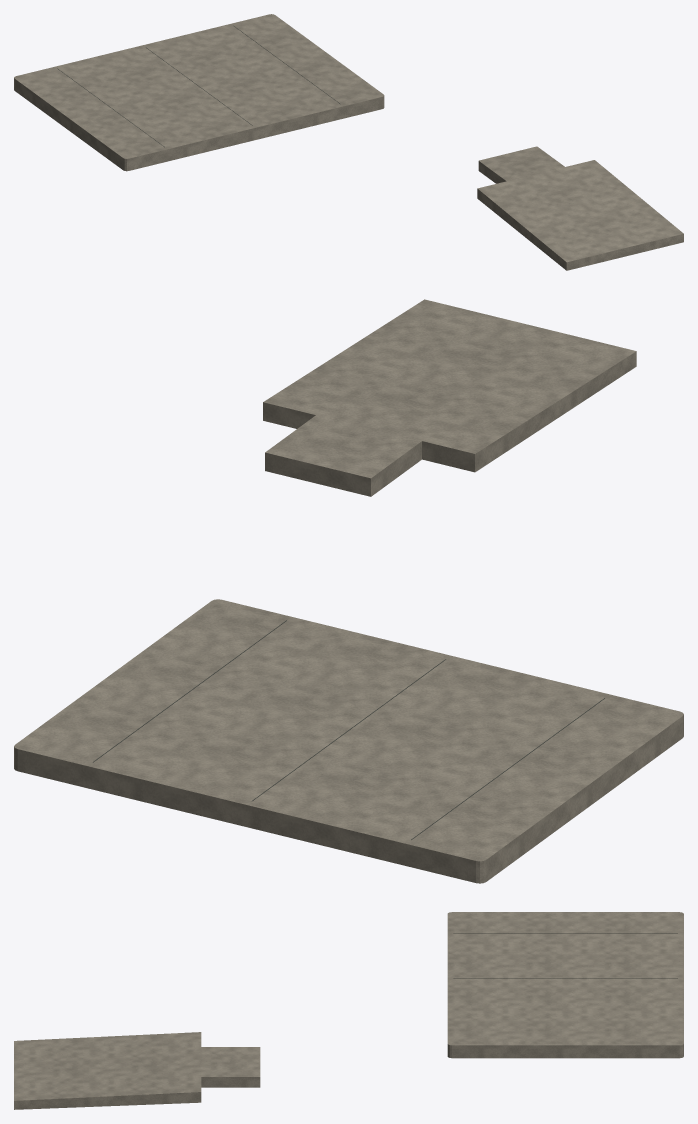
File: SM_Substation_Pad.glb
3 views of the same model, one above another, from view 1: azimuth 30°, elevation 25°; view 2: azimuth 150°, elevation 25°; view 3: azimuth 270°, elevation 25° (orthographic). The views are drawn at different scales.
Parts seen in each view (by area): view 1: SM_Substation_Pad; view 2: SM_Substation_Pad; view 3: SM_Substation_Pad.
Boxes of the visible parts, <box> form: SM_Substation_Pad: <box>14,14,683,270</box>; SM_Substation_Pad: <box>14,299,683,883</box>; SM_Substation_Pad: <box>14,912,683,1109</box>.
Size of the model in its own units: 10.8 by 0.502 by 17.
2 materials, 1 textured.
